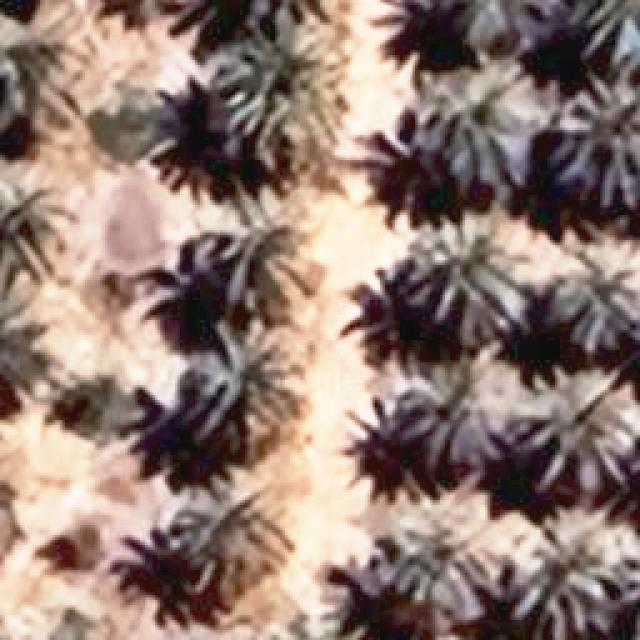PalmTree: (86, 0, 597, 142), (212, 17, 350, 176), (213, 19, 350, 176), (414, 54, 545, 190), (511, 502, 639, 639), (185, 317, 307, 457), (415, 54, 542, 185), (188, 320, 304, 458), (519, 364, 639, 497), (407, 218, 532, 344), (380, 493, 506, 618), (517, 369, 640, 497), (509, 510, 630, 640), (380, 499, 504, 622), (407, 215, 527, 342), (169, 484, 294, 602), (214, 188, 320, 318), (180, 491, 296, 606), (215, 188, 318, 316), (395, 358, 503, 468), (394, 358, 502, 467), (555, 72, 639, 211), (0, 35, 92, 140), (553, 244, 640, 352), (552, 248, 639, 353), (0, 180, 84, 285), (0, 182, 79, 290), (0, 35, 90, 127), (0, 286, 46, 416), (436, 0, 558, 46), (572, 0, 640, 77), (569, 0, 639, 66), (220, 0, 338, 27), (619, 520, 640, 634)
